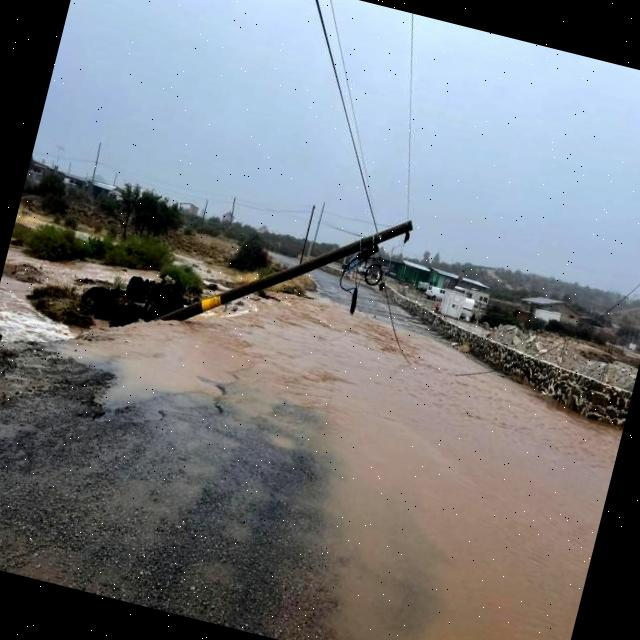Broken Pole: (151, 218, 412, 322)
